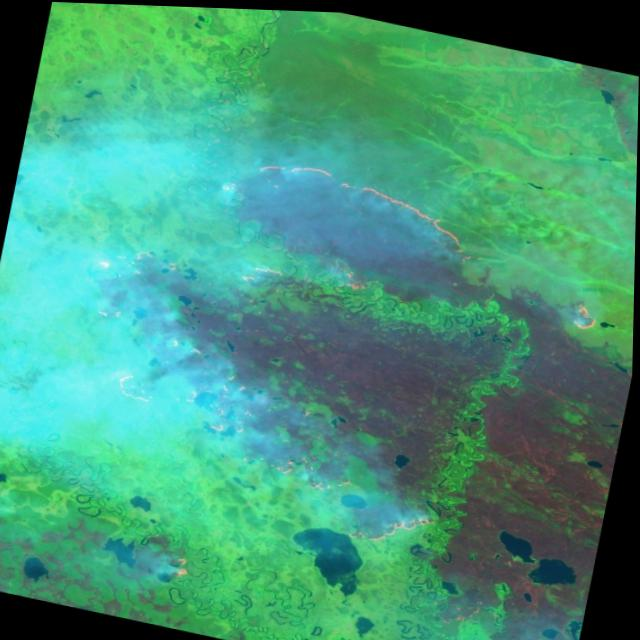fire: (19, 109, 638, 640)
